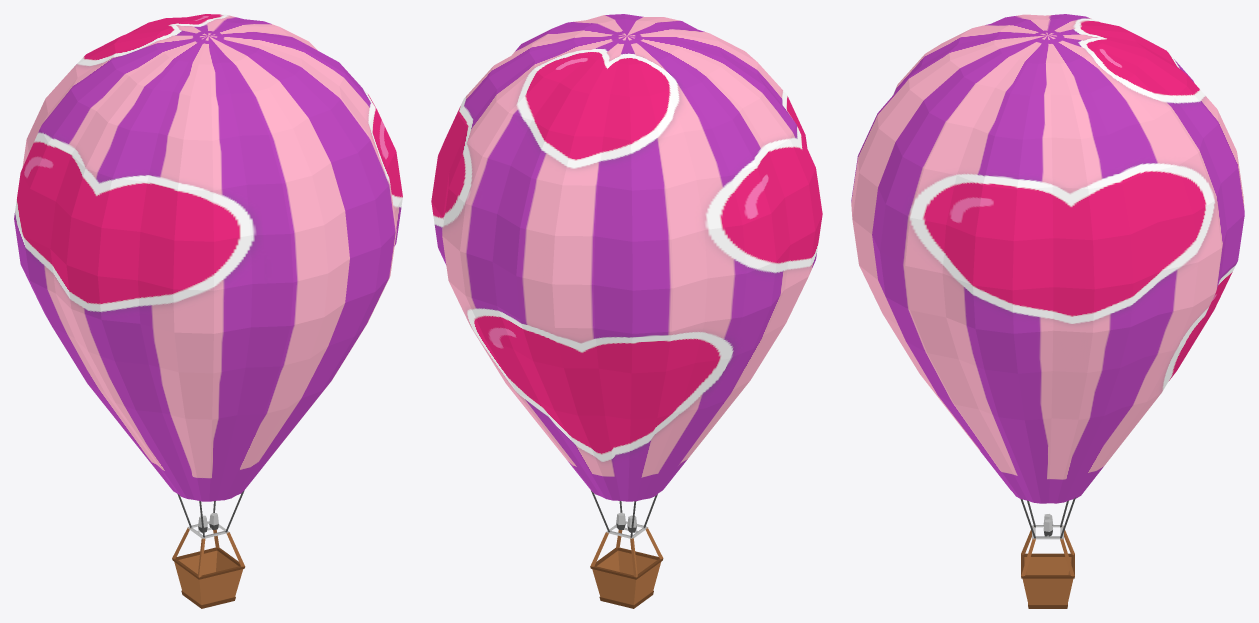
The picture shows the model from 3 angles, left to right: view 1: azimuth 30°, elevation 25°; view 2: azimuth 150°, elevation 25°; view 3: azimuth 270°, elevation 25°; orthographic projection.
Parts seen in each view (by area): view 1: Hot Air Balloon; view 2: Hot Air Balloon; view 3: Hot Air Balloon.
Boxes of the visible parts, x1,y1,x2,y2 form: Hot Air Balloon: (14,14,402,608); Hot Air Balloon: (431,14,822,608); Hot Air Balloon: (851,14,1244,608).
Bounding box in the file's own units: 11.56 × 18.57 × 11.72.
1 material, 1 textured.
